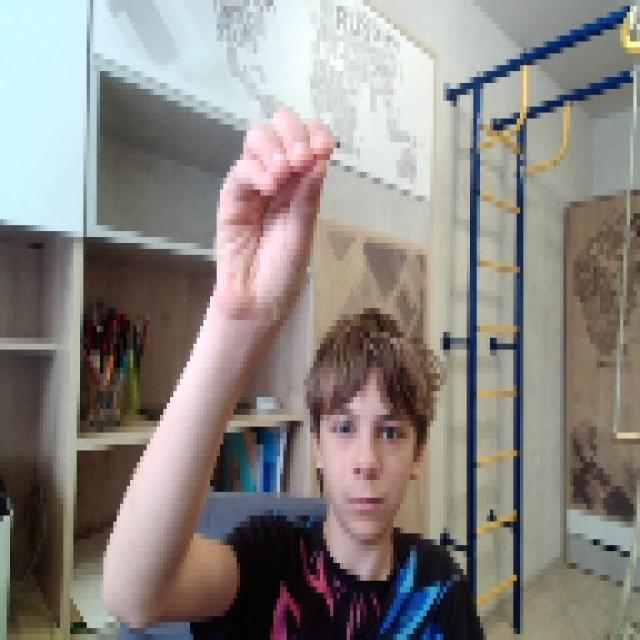left_click: (210, 95, 330, 302)
